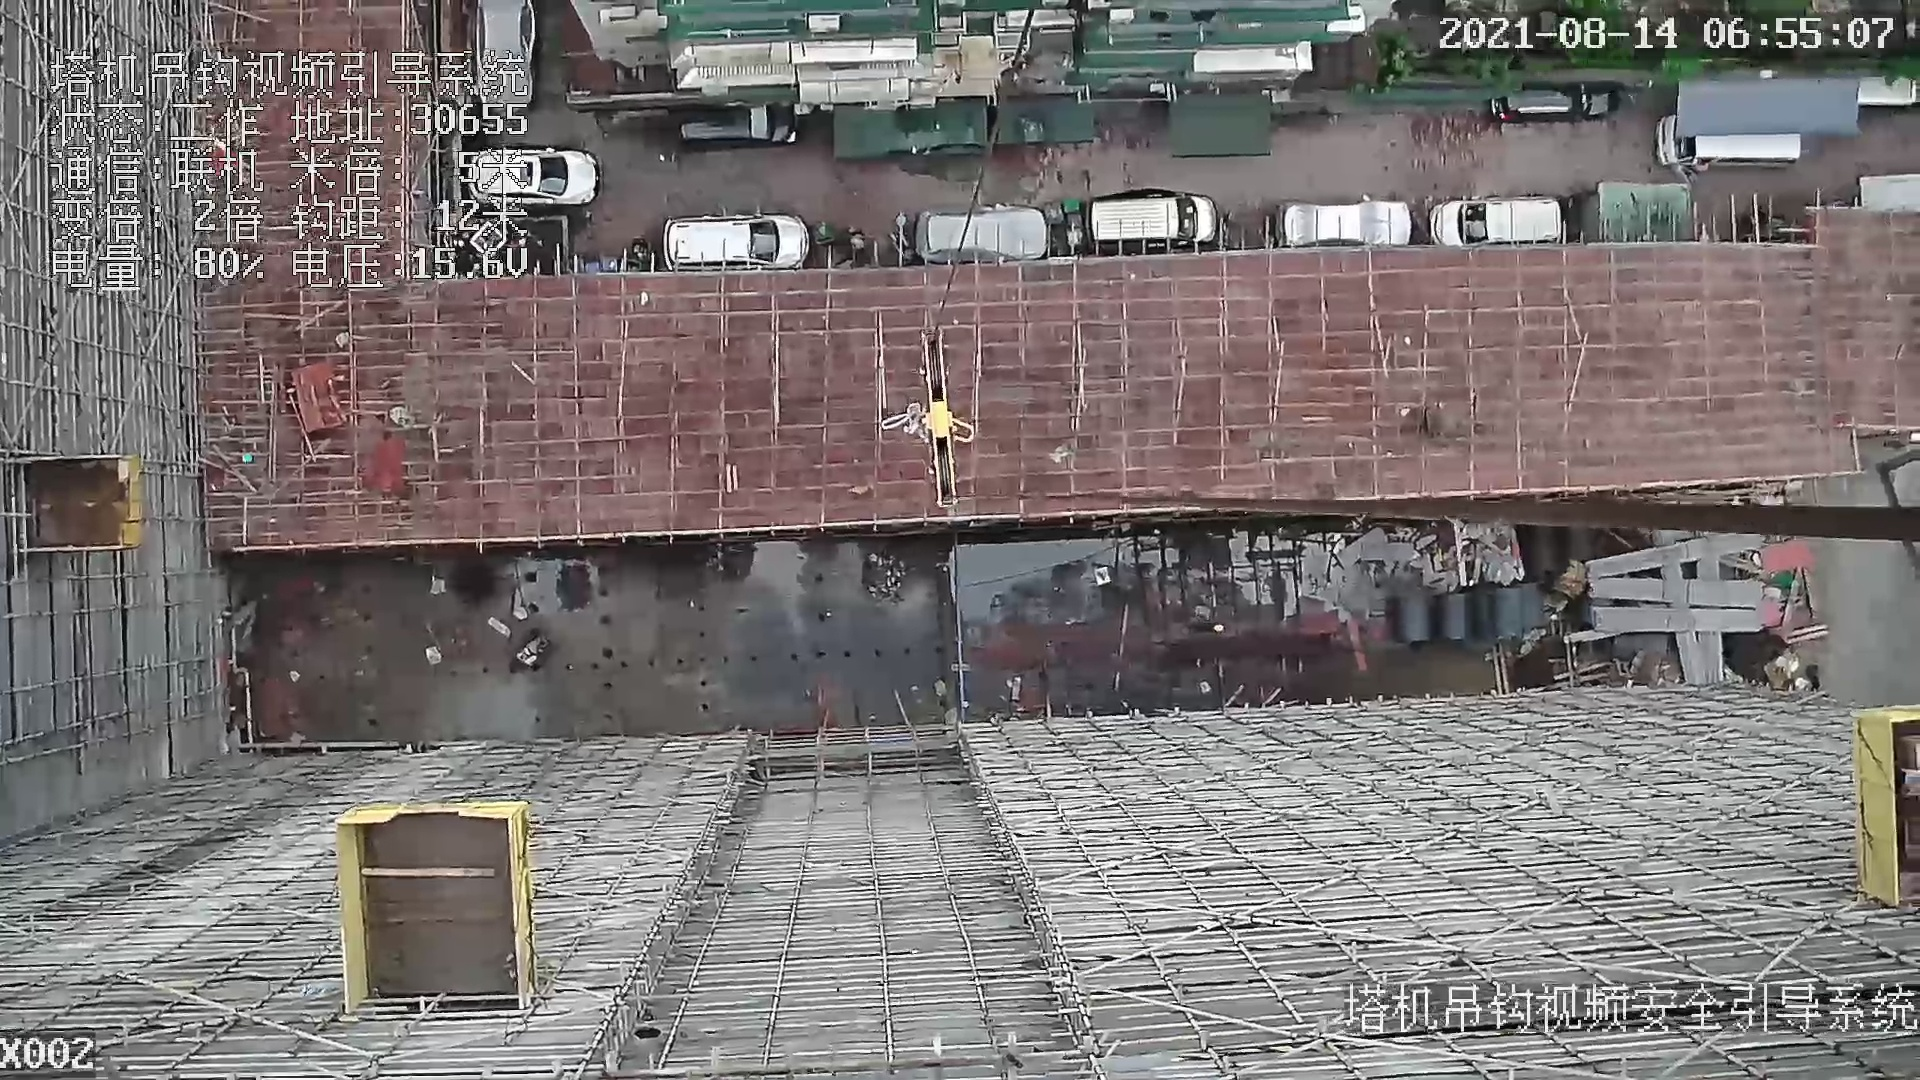hook: (905, 316, 977, 506)
rebar: (1588, 531, 1759, 578), (1589, 578, 1763, 607), (1592, 607, 1764, 632), (1672, 633, 1706, 680), (1698, 633, 1725, 679)
